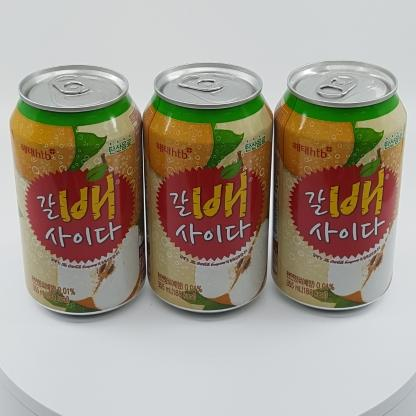-------355ML: (9, 64, 147, 315), (270, 60, 408, 311), (142, 62, 274, 314)
